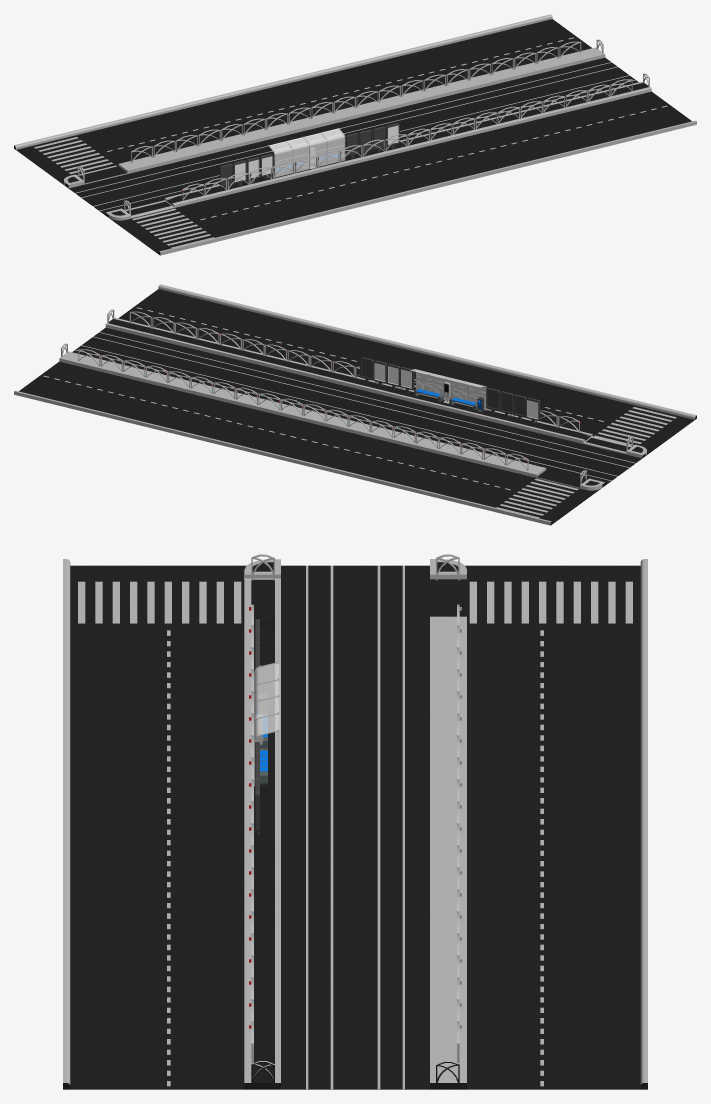
The model's file is StatieTramvai.glb.
3 renders of one model, top to bottom at view 1: azimuth 30°, elevation 25°; view 2: azimuth 150°, elevation 25°; view 3: azimuth 270°, elevation 25°, orthographic. The views are drawn at different scales.
Visible parts, largest first — view 1: Solid1 (×5); view 2: Solid1; view 3: Solid1.
Boxes of the visible parts, x1=… form: Solid1 (×5): x1=14, y1=14, x2=696, y2=255; Solid1: x1=14, y1=284, x2=696, y2=525; Solid1: x1=63, y1=554, x2=647, y2=1089.
Bounding box in the file's own units: 50 × 2.77 × 23.6.
Materials: 17 (3 with a texture image).
